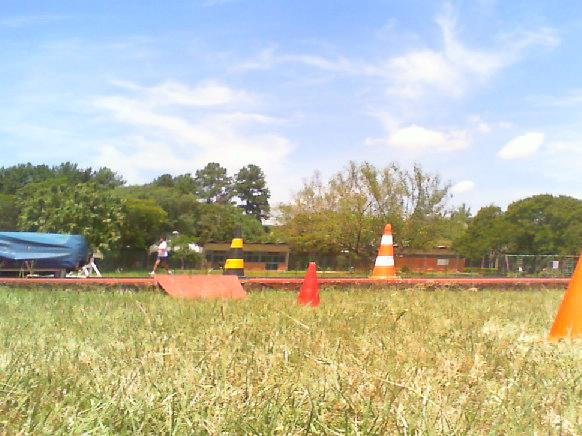0 cone: (545, 247, 582, 344), (366, 223, 401, 280), (222, 226, 247, 280), (296, 262, 320, 309)
